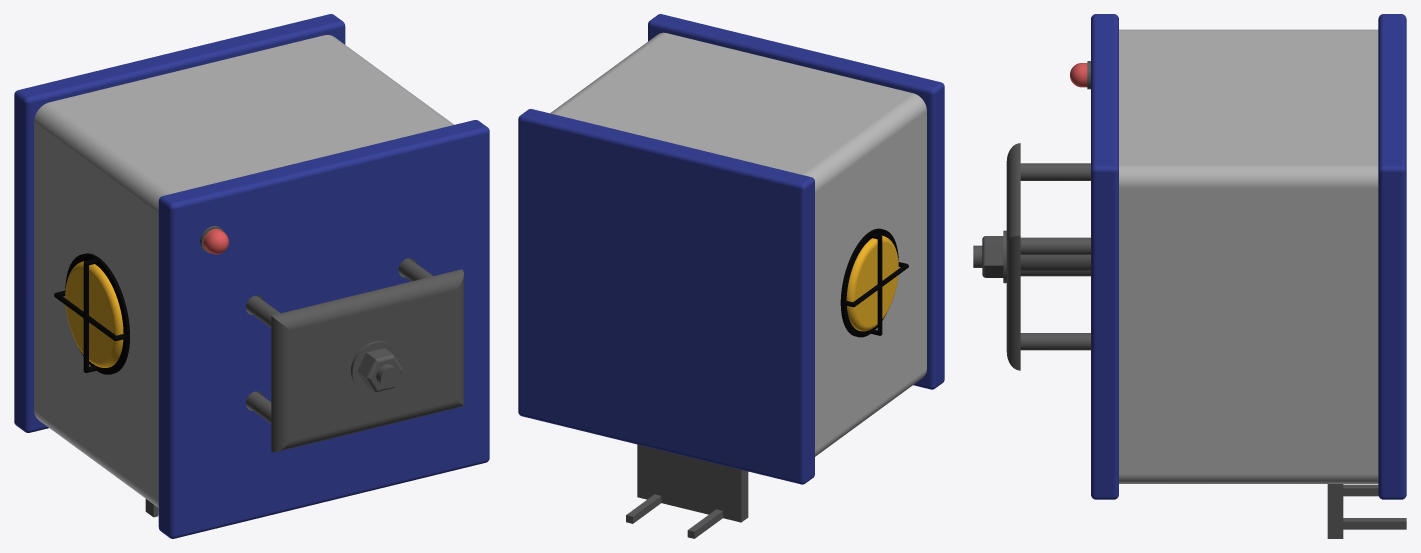
Rendered from Fabric low poly v4.fbx.
3 views of the same model, side by side, from view 1: azimuth 30°, elevation 25°; view 2: azimuth 150°, elevation 25°; view 3: azimuth 270°, elevation 25° (orthographic). The views are drawn at different scales.
Visible parts, largest first — view 1: Base, Press, light, window; view 2: Base, light, window; view 3: Base, Press.
Part boxes in pixels (x1,y1,x2,y2): Base: [14, 14, 489, 538]; Press: [246, 258, 463, 452]; light: [65, 261, 123, 367]; window: [54, 253, 129, 374]; Base: [518, 14, 944, 538]; light: [846, 235, 898, 331]; window: [840, 228, 908, 337]; Base: [1087, 14, 1406, 538]; Press: [973, 143, 1090, 370].
Size of the model in its own units: 1075 by 1325 by 1235.
